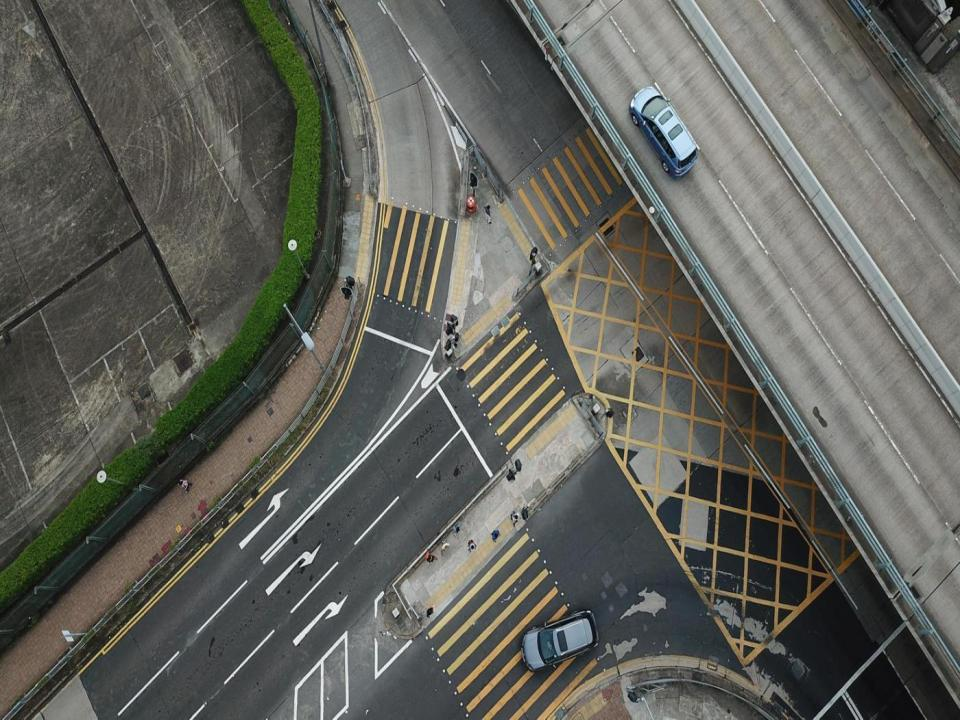car: (629, 86, 699, 177), (522, 610, 599, 671)
